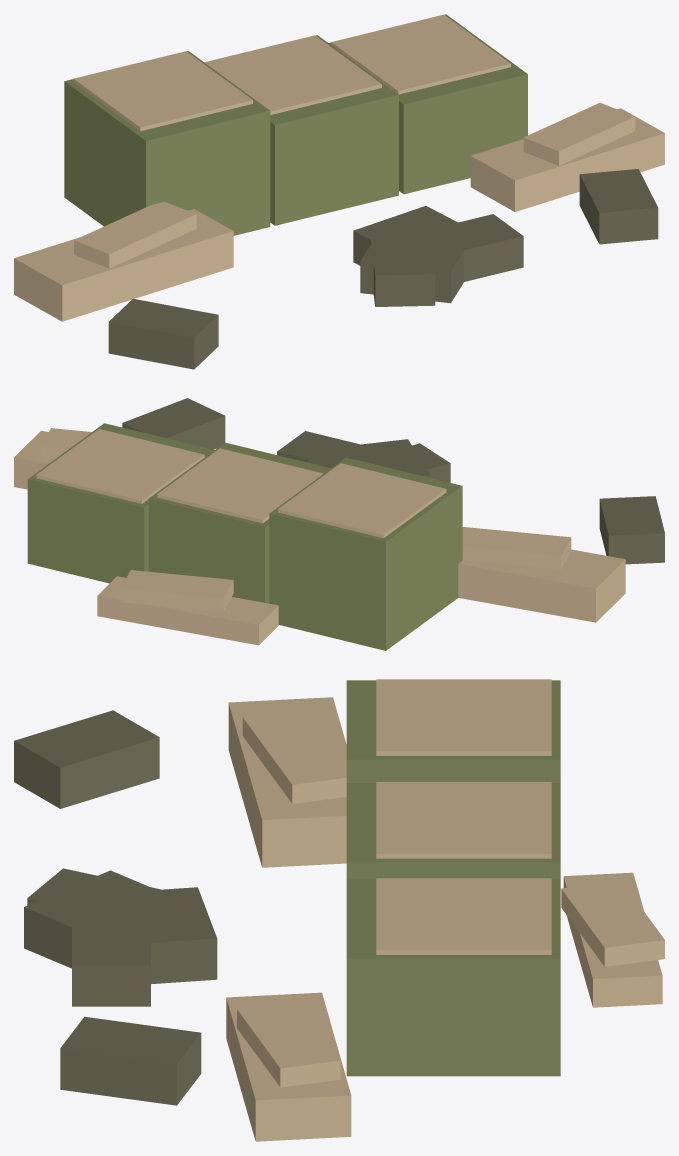
File: SM_HescoCorto3_v3_RemateSacos_e2_MuyDanado_LOD1.fbx
3 renders of one model, top to bottom at view 1: azimuth 30°, elevation 25°; view 2: azimuth 150°, elevation 25°; view 3: azimuth 270°, elevation 25°, orthographic. The views are drawn at different scales.
Parts seen in each view (by area): view 1: SM_hesco_piezas_v94_LOD1; view 2: SM_hesco_piezas_v94_LOD1; view 3: SM_hesco_piezas_v94_LOD1.
Boxes of the visible parts, x1,y1,x2,y2 form: SM_hesco_piezas_v94_LOD1: (14,14,664,369); SM_hesco_piezas_v94_LOD1: (14,398,664,650); SM_hesco_piezas_v94_LOD1: (14,679,664,1141).
Size of the model in its own units: 5.36 by 0.988 by 3.71.
